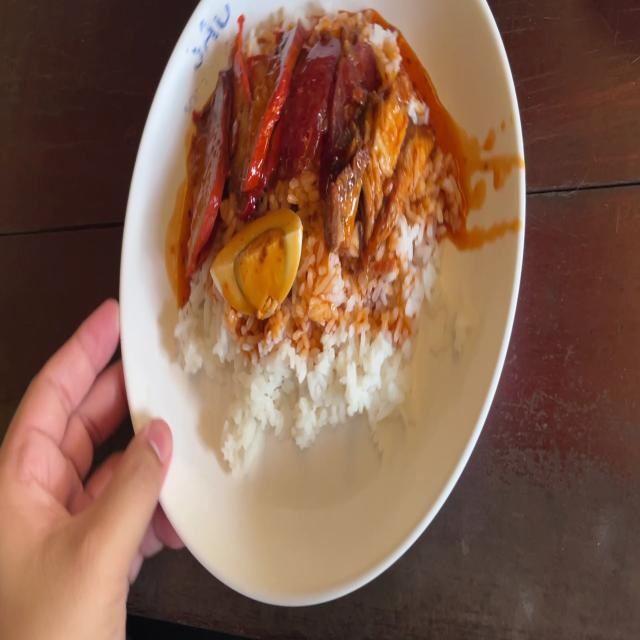01boiled_egg: (215, 210, 305, 318)
01chainese_sausage: (285, 40, 373, 171)
01crispy_pork: (332, 98, 433, 253)
01red_pork: (185, 33, 296, 235)
01red_pork_and_crispy_pork: (174, 20, 438, 428)
01rice: (292, 254, 427, 419), (202, 326, 290, 463), (174, 266, 218, 356)
